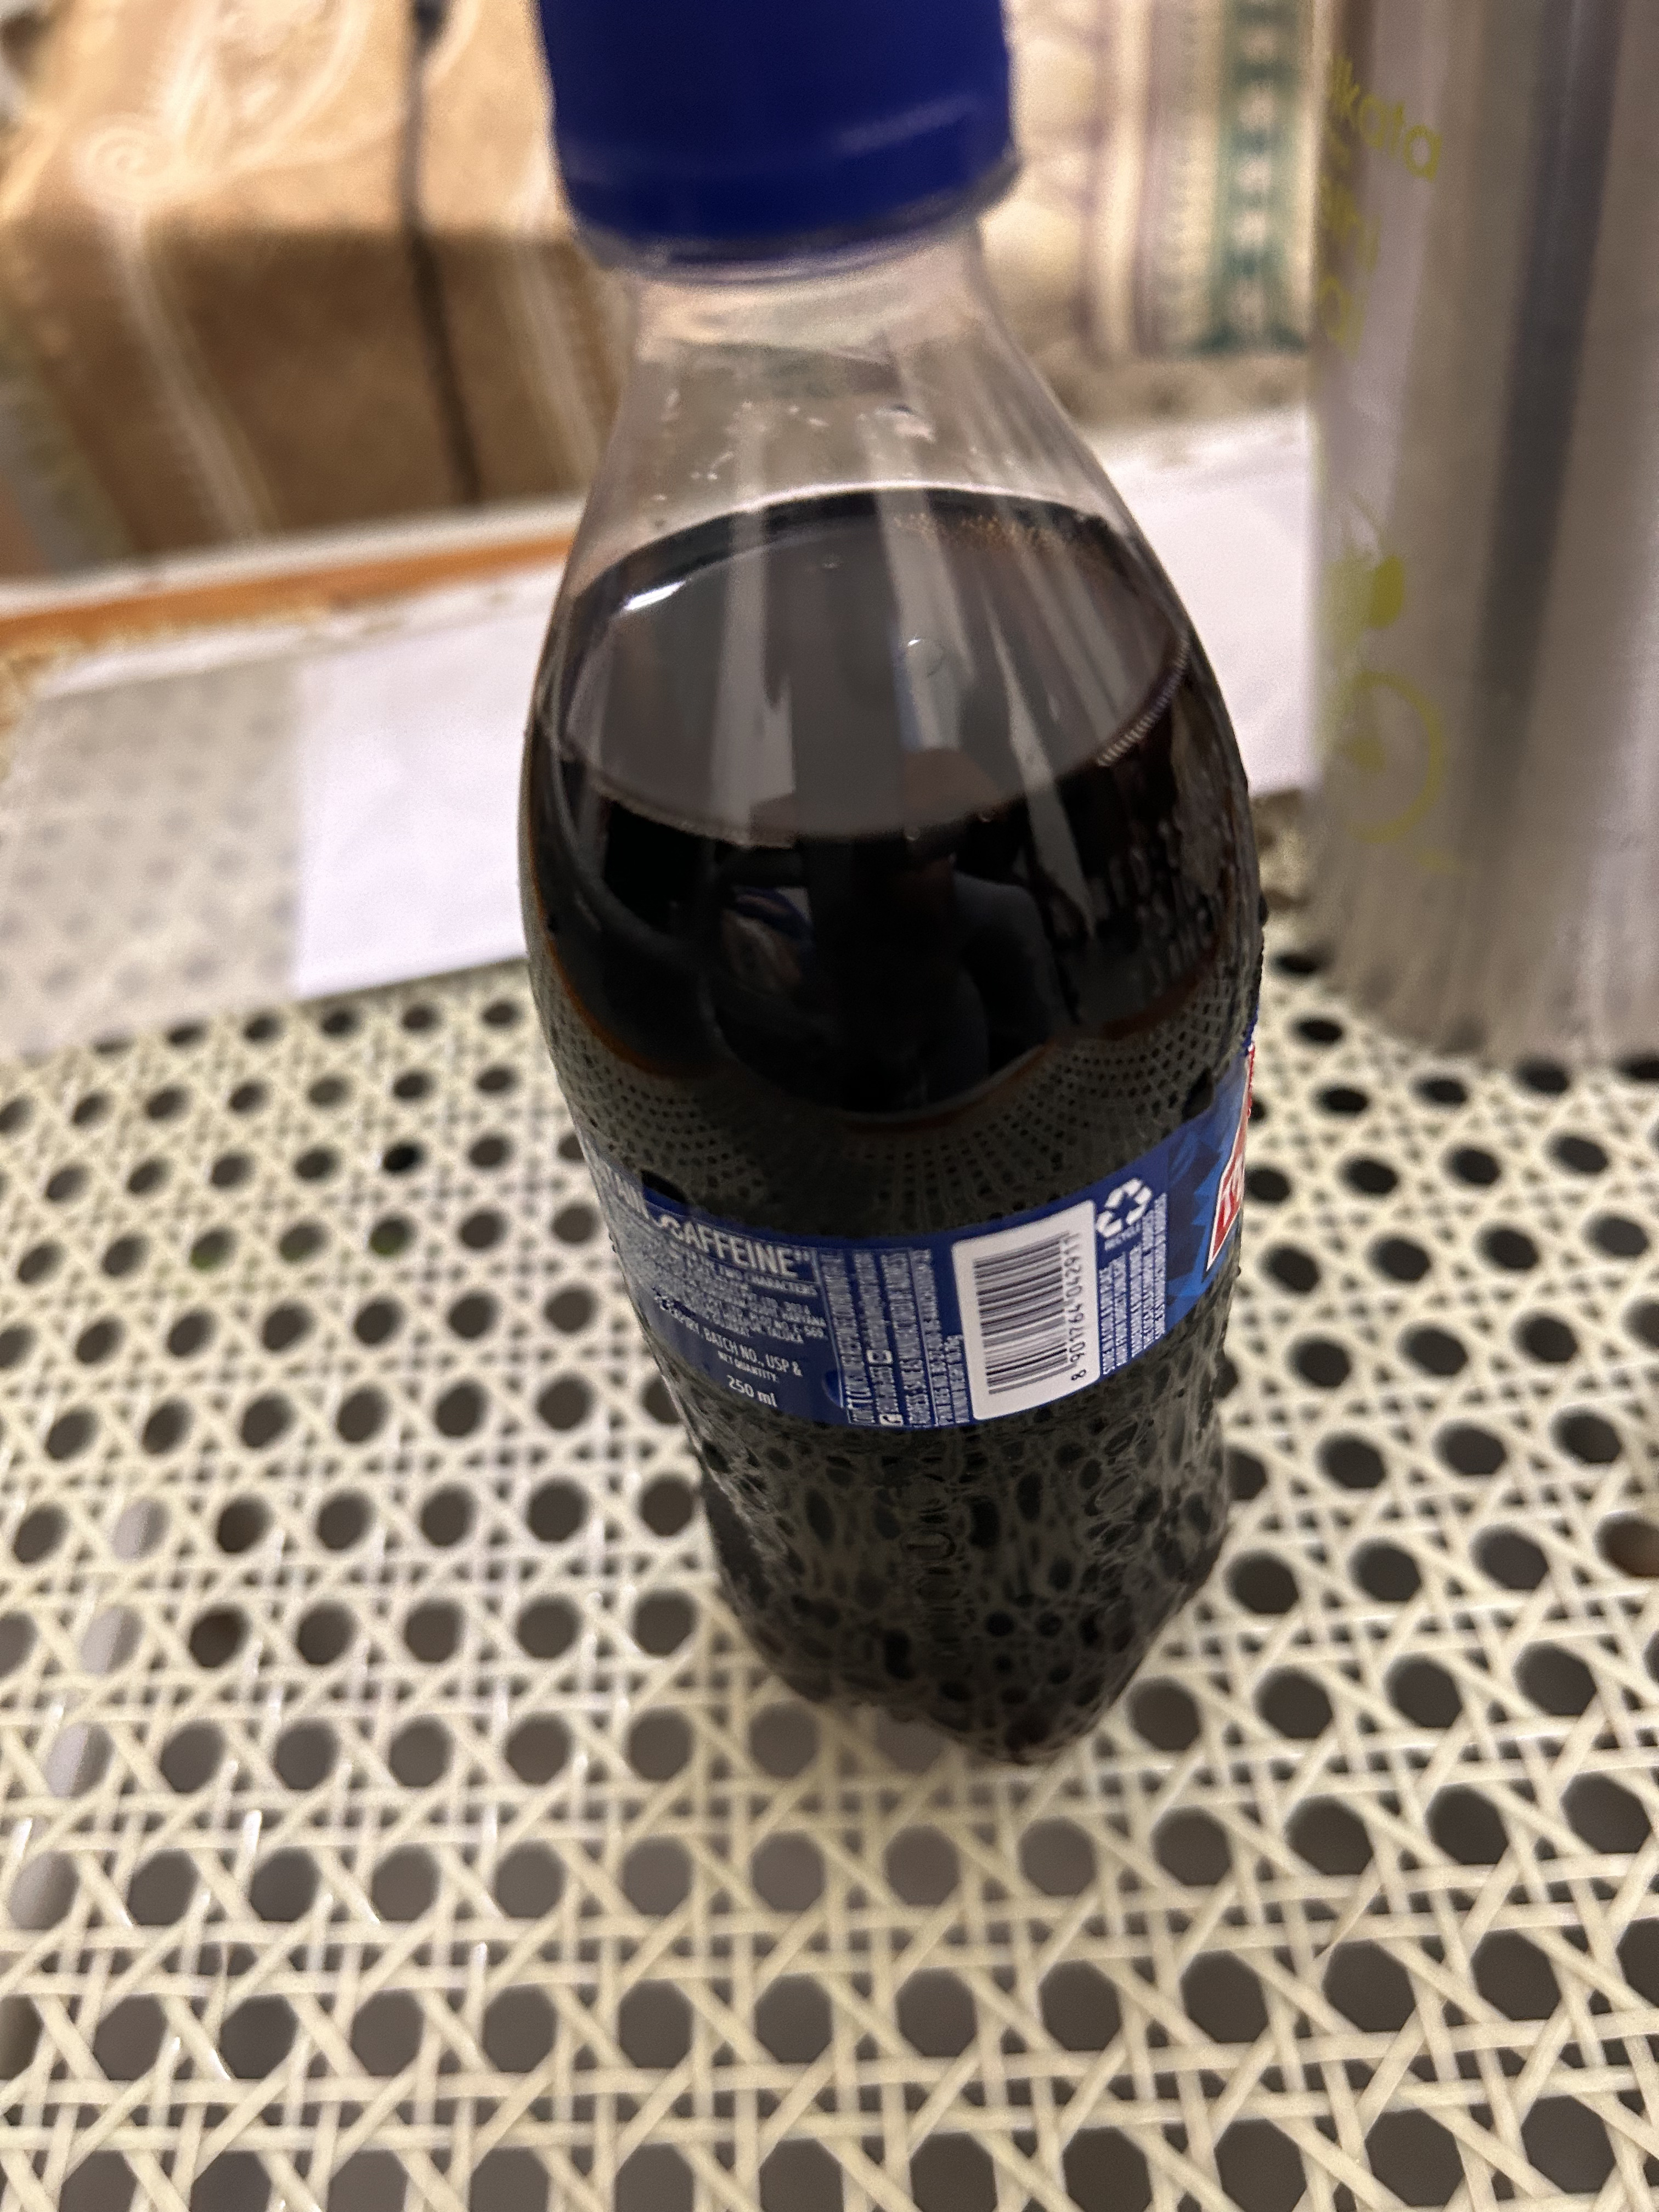sealstable: (512, 3, 1073, 449)
